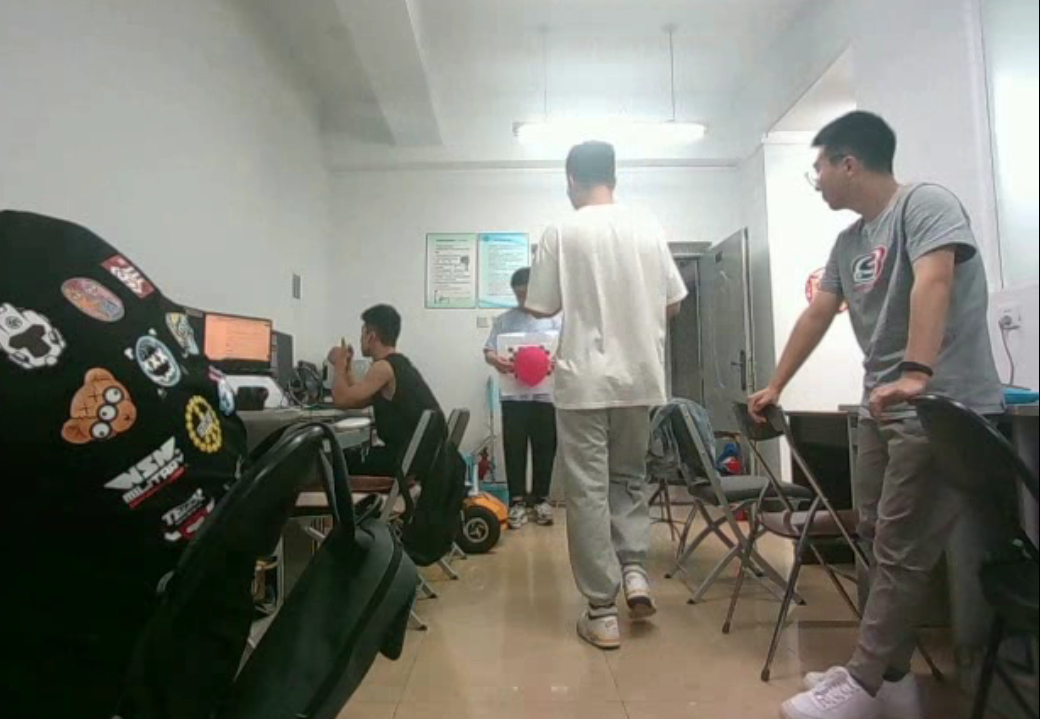balloon: (514, 345, 550, 386)
